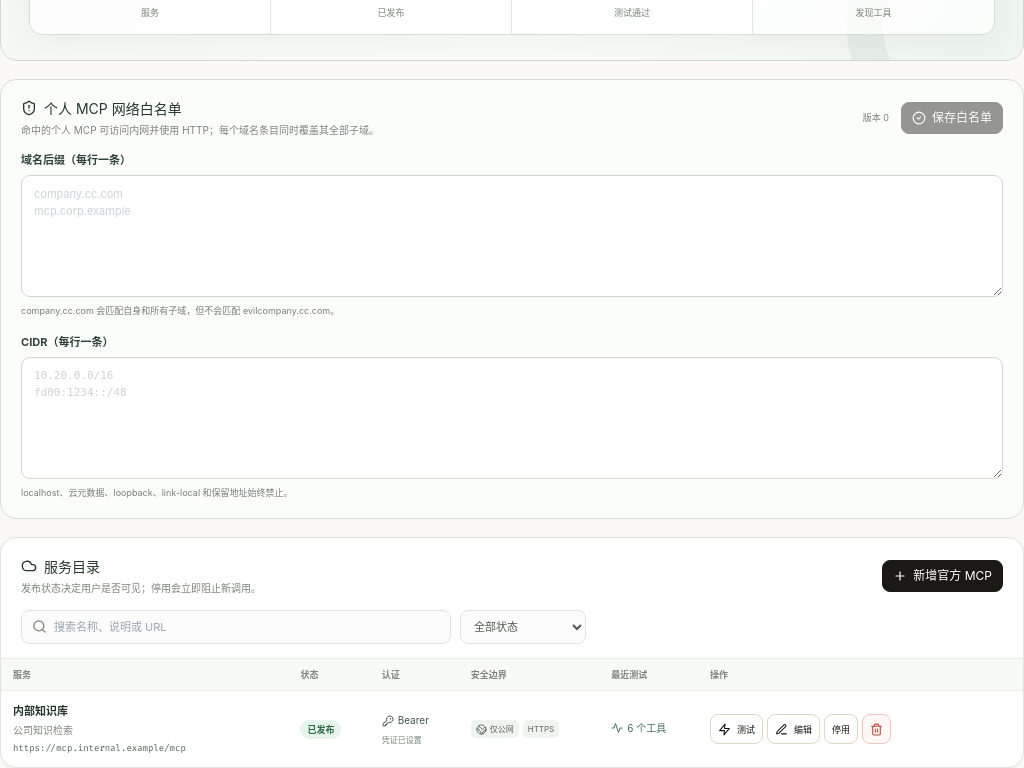
Test: AdminMcpCatalogPanel › 连接测试失败使用错误提示而不是绿色成功 toast，并刷新出探针写回的状态
(page scrolled)
Check: the text "内部知识库" is shown, box [13, 704, 68, 718]
Click the button with aria-label "测试 内部知识库" at coordinates (736, 729), box [710, 714, 763, 744]
(page scrolled)
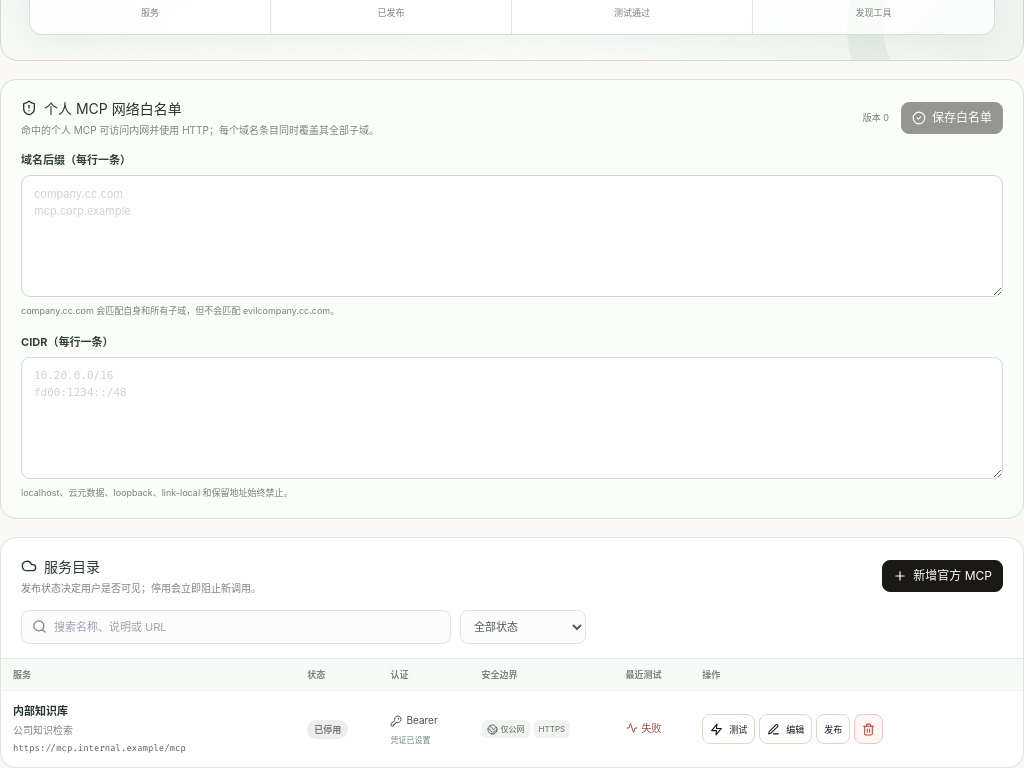
Check: the text with class "admin-mcp-status" reads "已停用", box [314, 724, 341, 734]
